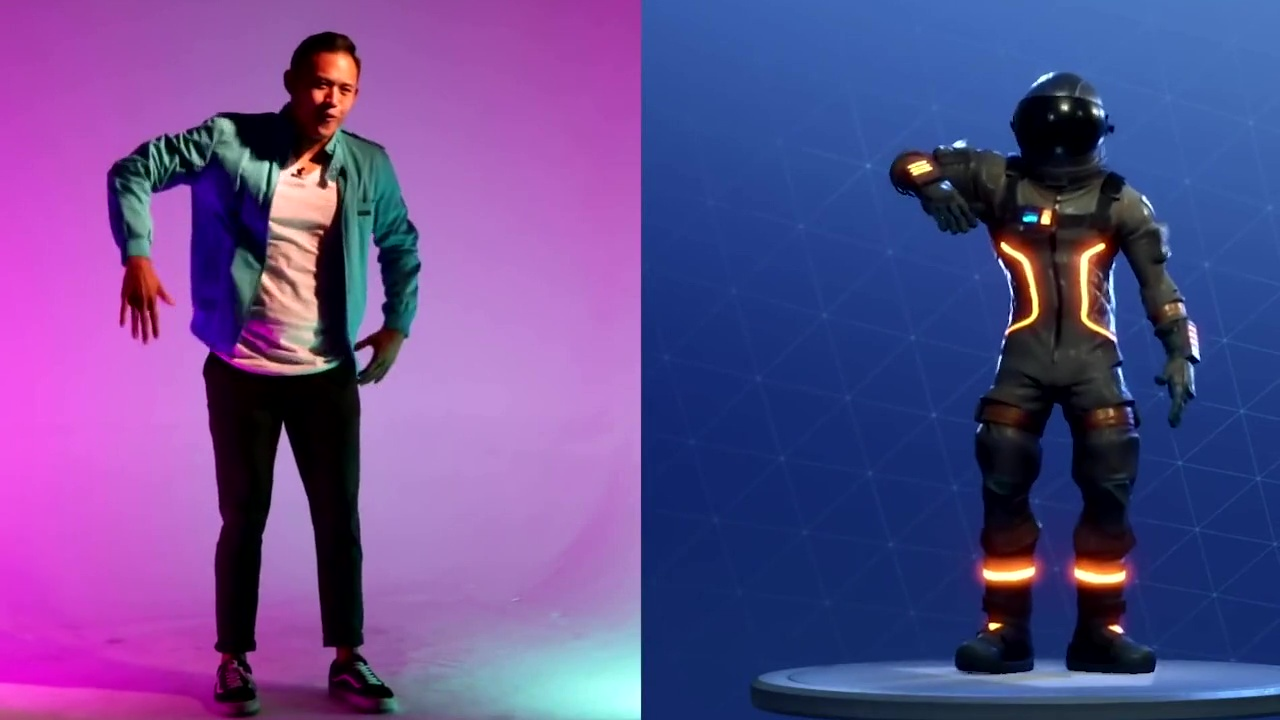Head: (285, 30, 372, 137)
Hip: (227, 321, 353, 365)
LeftAnkle: (317, 631, 405, 711)
LeftElbow: (372, 224, 440, 263)
LeftKnee: (299, 477, 383, 549)
LeftShoulder: (357, 115, 418, 212)
LeftWrist: (362, 302, 415, 404)
RightAnkle: (196, 629, 274, 716)
RightElbow: (76, 128, 155, 202)
RightKnee: (201, 483, 280, 539)
RightShoulder: (182, 86, 248, 206)
RightWrist: (94, 256, 180, 358)
Torso: (226, 154, 359, 337)
